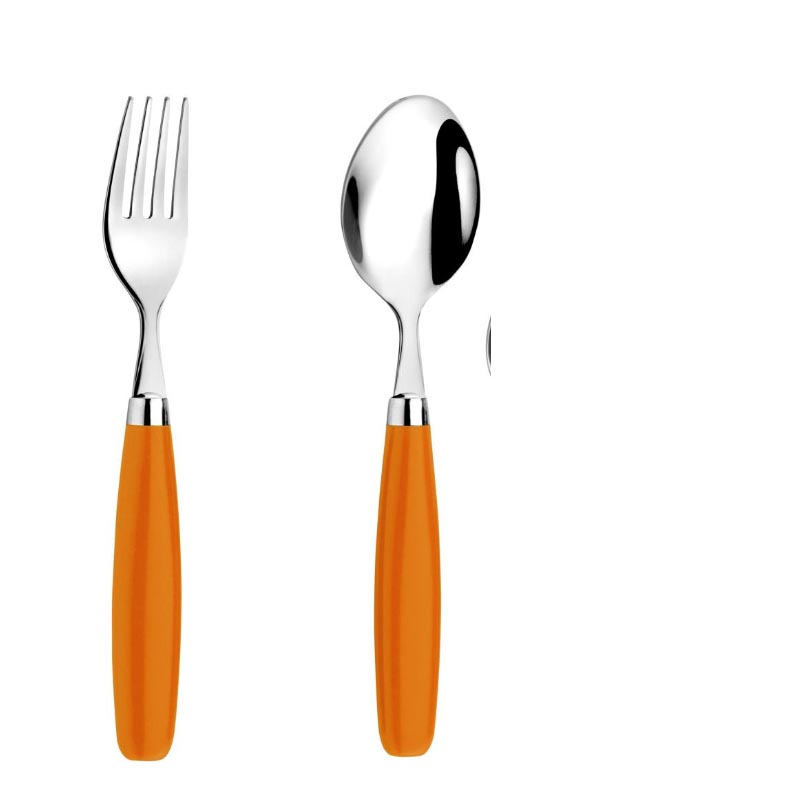Lyzka: (339, 91, 486, 320)
Widelec: (104, 91, 201, 324)
